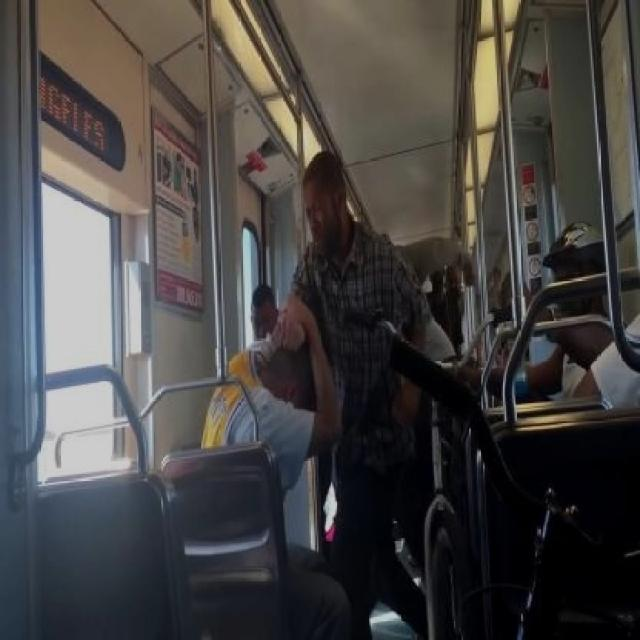fight: (195, 143, 457, 639)
